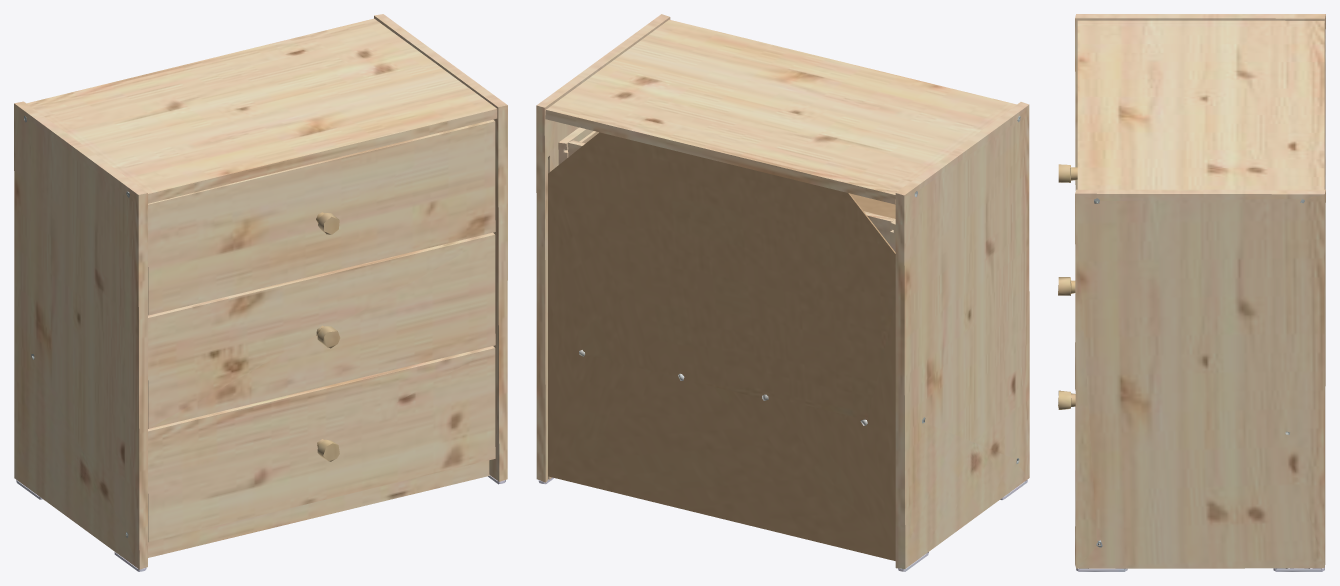
The model's file is 06 - RAST Chest of 3 drawers - pine 60x35x59 cm.glb.
3 views of the same model, side by side, from view 1: azimuth 30°, elevation 25°; view 2: azimuth 150°, elevation 25°; view 3: azimuth 270°, elevation 25° (orthographic).
Visible parts, largest first — view 1: ASY_ART_20609860_S01_NV01; view 2: ASY_ART_20609860_S01_NV01; view 3: ASY_ART_20609860_S01_NV01.
Part boxes in pixels (x1,y1,x2,y2): ASY_ART_20609860_S01_NV01: (14,14,507,571); ASY_ART_20609860_S01_NV01: (536,14,1029,571); ASY_ART_20609860_S01_NV01: (1058,14,1325,571).
Bounding box in the file's own units: 0.597 × 0.5843 × 0.3745.
Materials: 1 (1 with a texture image).
